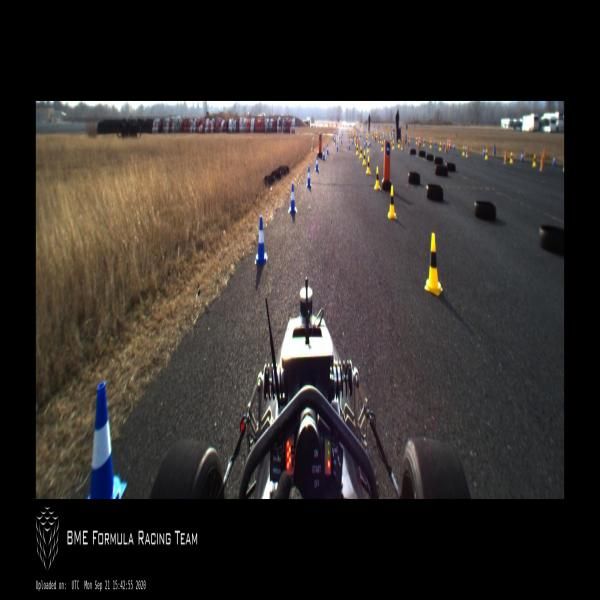blue_cone: (88, 382, 127, 498), (254, 216, 268, 262), (289, 182, 296, 212), (306, 168, 312, 188), (315, 154, 319, 172), (520, 150, 524, 162), (322, 148, 325, 161), (553, 154, 556, 166), (464, 144, 467, 153), (363, 140, 366, 148), (340, 136, 343, 144), (327, 144, 329, 155), (483, 146, 485, 157), (336, 142, 338, 152), (348, 141, 350, 150), (453, 141, 455, 150), (434, 138, 436, 145), (443, 141, 445, 147), (352, 137, 353, 145), (412, 134, 413, 141), (417, 134, 418, 140)
unknown_cone: (540, 153, 544, 172), (504, 149, 508, 165), (466, 143, 469, 158), (401, 137, 404, 151), (493, 144, 496, 155), (445, 139, 447, 153), (544, 148, 546, 161), (449, 138, 451, 148)
yellow_cone: (424, 231, 443, 295), (388, 185, 396, 219), (374, 167, 380, 190), (532, 152, 536, 170), (366, 157, 370, 175), (362, 151, 366, 165), (510, 150, 514, 164), (485, 149, 488, 160), (462, 146, 465, 157), (356, 144, 359, 154), (366, 142, 369, 152), (381, 142, 384, 152), (392, 140, 395, 150), (438, 141, 441, 151), (360, 146, 362, 158), (562, 161, 564, 172), (398, 138, 400, 148), (390, 136, 392, 146), (423, 138, 425, 147), (430, 140, 432, 148), (416, 137, 418, 145), (408, 135, 410, 142), (380, 136, 381, 144)
